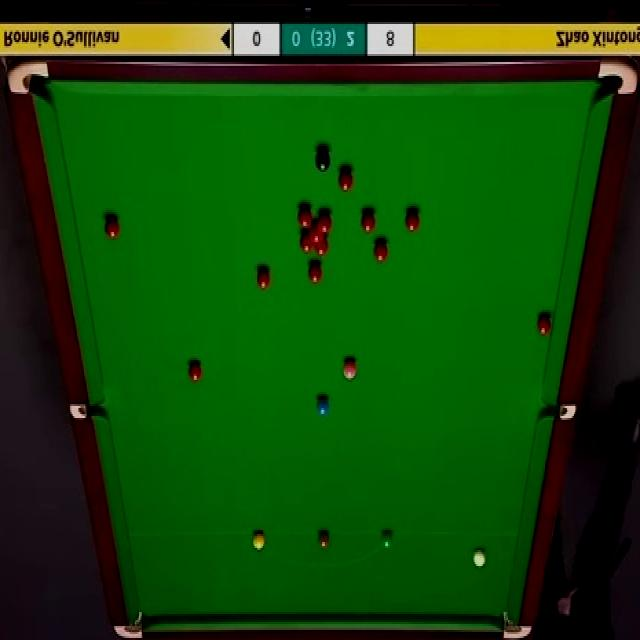black-ball: (315, 147, 332, 174)
blue-ball: (315, 394, 330, 418)
brown-ball: (317, 530, 330, 550)
green-ball: (380, 530, 393, 551)
pink-ball: (339, 355, 359, 383)
red-ball: (536, 309, 554, 337), (337, 167, 355, 194), (186, 359, 204, 382), (103, 216, 119, 240), (360, 209, 376, 233), (373, 240, 389, 264), (404, 208, 420, 232), (255, 265, 270, 290), (316, 210, 332, 232), (308, 262, 323, 283), (298, 206, 312, 228), (299, 230, 314, 250), (314, 237, 329, 256), (310, 225, 323, 242)
white-ball: (470, 547, 488, 570)
yellow-ball: (253, 530, 265, 550)
